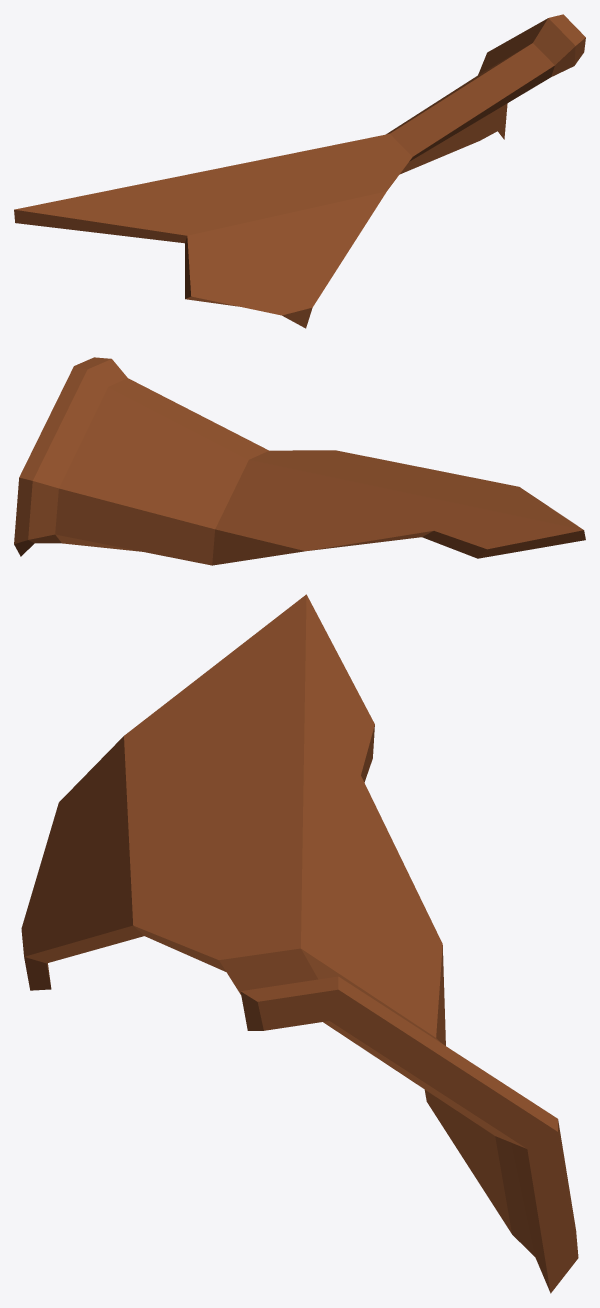
The model's file is Collin_BrokenVase_004_Piece_001.fbx.
3 views of the same model, one above another, from view 1: azimuth 30°, elevation 25°; view 2: azimuth 150°, elevation 25°; view 3: azimuth 270°, elevation 25° (orthographic). The views are drawn at different scales.
Parts seen in each view (by area): view 1: Broken_Vase_002_BrokenPiece_001; view 2: Broken_Vase_002_BrokenPiece_001; view 3: Broken_Vase_002_BrokenPiece_001.
Boxes of the visible parts, x1,y1,x2,y2 form: Broken_Vase_002_BrokenPiece_001: (14,14,585,328); Broken_Vase_002_BrokenPiece_001: (14,357,585,565); Broken_Vase_002_BrokenPiece_001: (21,594,578,1293).
Size of the model in its own units: 29.2 by 8.44 by 14.01.
Materials: 1 (1 with a texture image).
